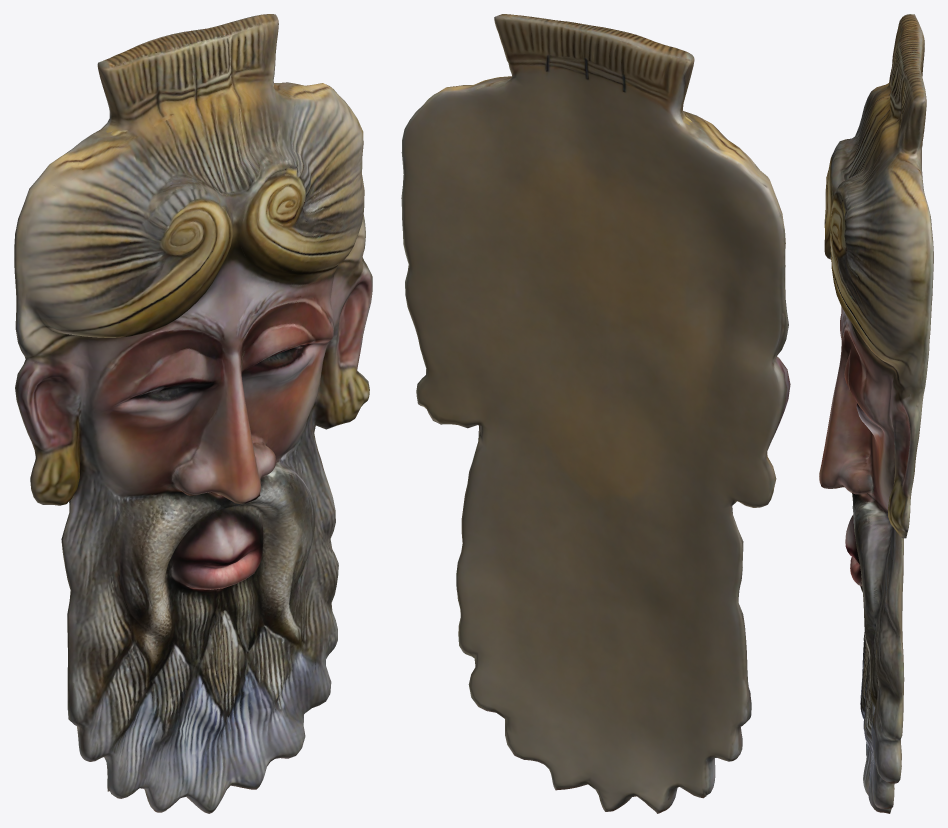
The model's file is bamunu_mask_01.glb.
3 renders of one model, left to right at view 1: azimuth 30°, elevation 25°; view 2: azimuth 150°, elevation 25°; view 3: azimuth 270°, elevation 25°, orthographic. The views are drawn at different scales.
Bounding box in the file's own units: 0.9875 × 2 × 0.2768.
1 material, 1 textured.
